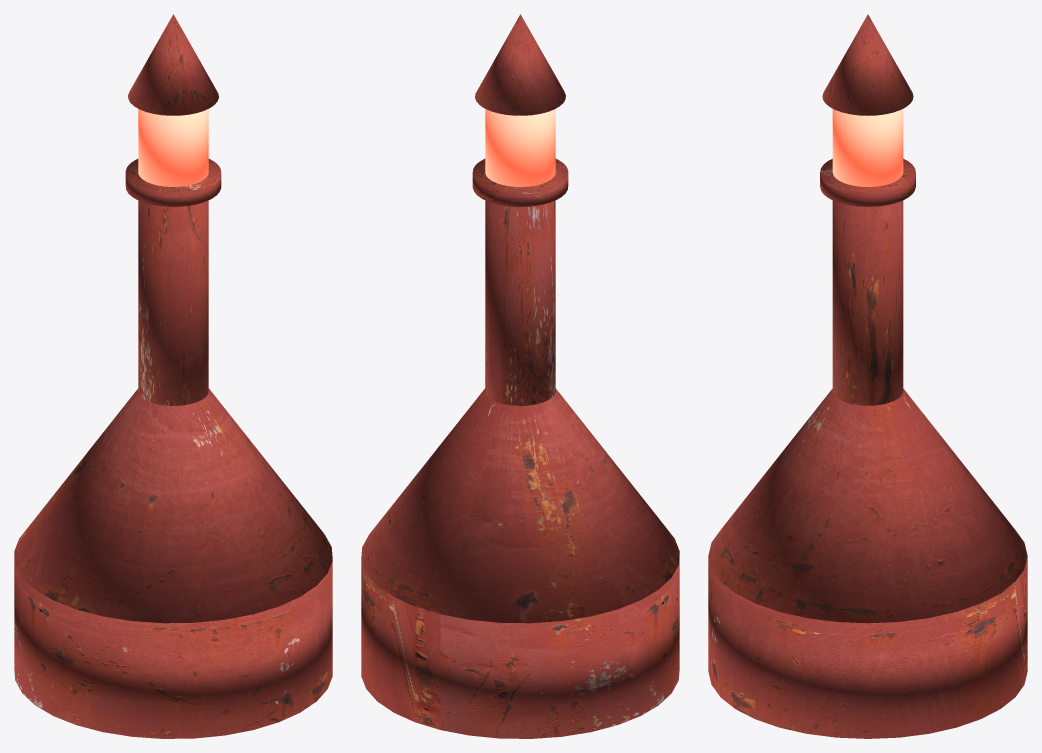
The model's file is Czerwona boja .fbx.
The picture shows the model from 3 angles, left to right: view 1: azimuth 30°, elevation 25°; view 2: azimuth 150°, elevation 25°; view 3: azimuth 270°, elevation 25°; orthographic projection.
Visible parts, largest first — view 1: Cylinder.001, Cylinder, Cylinder.002, Cone, Cylinder.004, Cylinder.003; view 2: Cylinder.001, Cylinder, Cylinder.002, Cone, Cylinder.004, Cylinder.003; view 3: Cylinder.001, Cylinder, Cylinder.002, Cone, Cylinder.004, Cylinder.003.
Boxes of the visible parts, <box> form: Cylinder.001: <box>14,388,332,623</box>; Cylinder: <box>14,555,332,738</box>; Cylinder.002: <box>138,200,208,405</box>; Cone: <box>128,14,218,115</box>; Cylinder.004: <box>138,109,208,186</box>; Cylinder.003: <box>125,158,221,206</box>; Cylinder.001: <box>361,388,679,623</box>; Cylinder: <box>361,555,679,738</box>; Cylinder.002: <box>485,200,555,405</box>; Cone: <box>475,14,565,115</box>; Cylinder.004: <box>485,109,555,186</box>; Cylinder.003: <box>472,158,568,206</box>; Cylinder.001: <box>708,389,1027,623</box>; Cylinder: <box>708,556,1027,738</box>; Cylinder.002: <box>832,200,903,405</box>; Cone: <box>822,14,913,115</box>; Cylinder.004: <box>832,109,903,186</box>; Cylinder.003: <box>820,158,915,206</box>.
Bounding box in the file's own units: 200 × 455 × 200.
